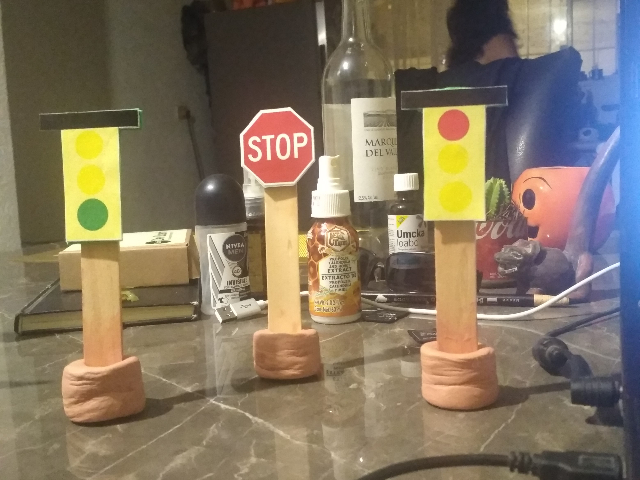Green Traffic Light: (36, 107, 143, 243)
Red Traffic Light: (398, 83, 508, 224)
Stop Sign: (236, 107, 319, 189)
